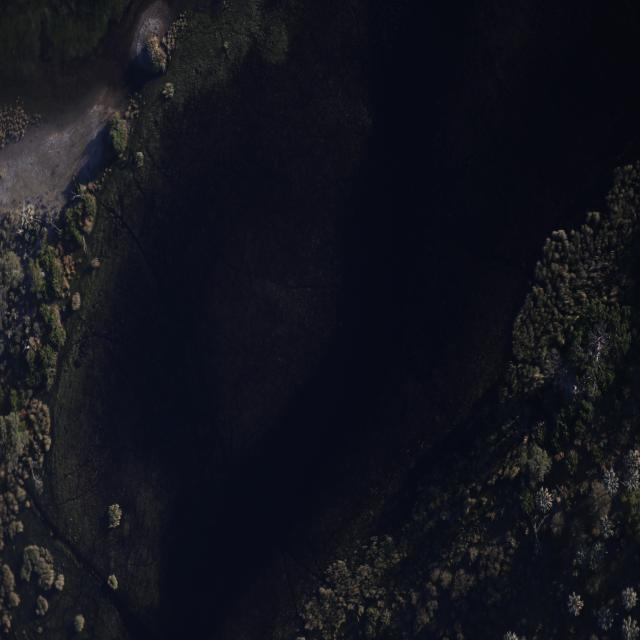elephant: (426, 558, 439, 572)
